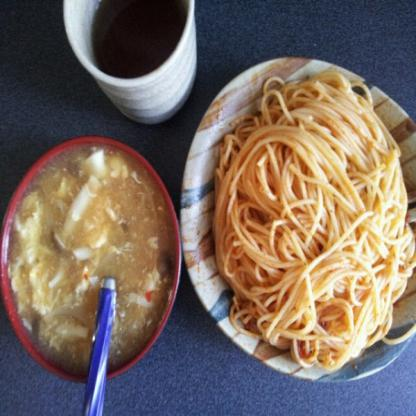Noodles: (212, 72, 416, 374)
